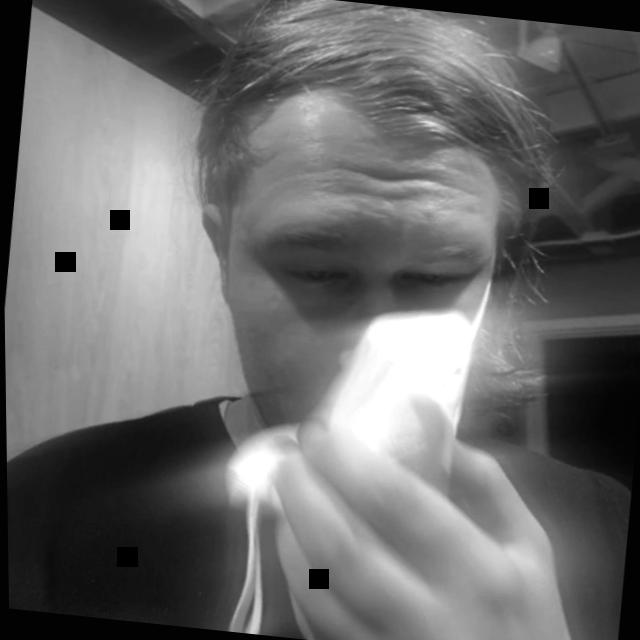NO-Mask: (129, 5, 537, 556)
